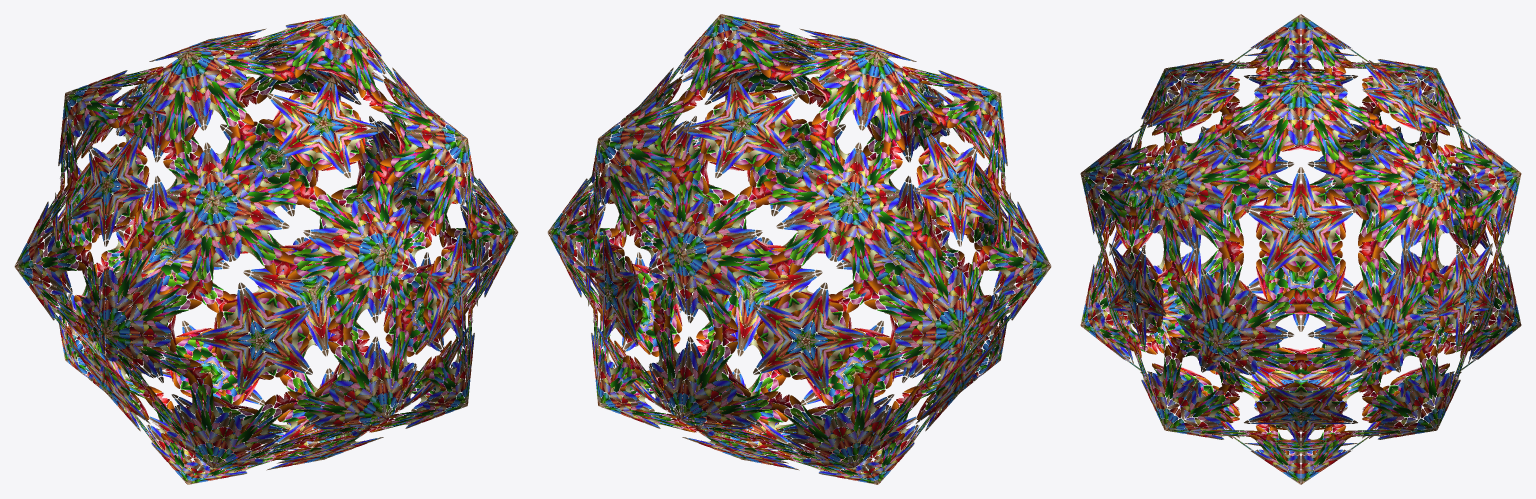
Rendered from 3SmallIcosacronicHexecontahedron.gltf.
3 views of the same model, side by side, from view 1: azimuth 30°, elevation 25°; view 2: azimuth 150°, elevation 25°; view 3: azimuth 270°, elevation 25° (orthographic). The views are drawn at different scales.
Parts seen in each view (by area): view 1: SmallIcosacronicHexecontahedron9; view 2: SmallIcosacronicHexecontahedron9; view 3: SmallIcosacronicHexecontahedron9.
Boxes of the visible parts, x1,y1,x2,y2 form: SmallIcosacronicHexecontahedron9: (14, 14, 518, 484); SmallIcosacronicHexecontahedron9: (547, 14, 1051, 484); SmallIcosacronicHexecontahedron9: (1080, 14, 1521, 484).
Bounding box in the file's own units: 3.62 × 3.62 × 3.62.
1 material, 1 textured.
